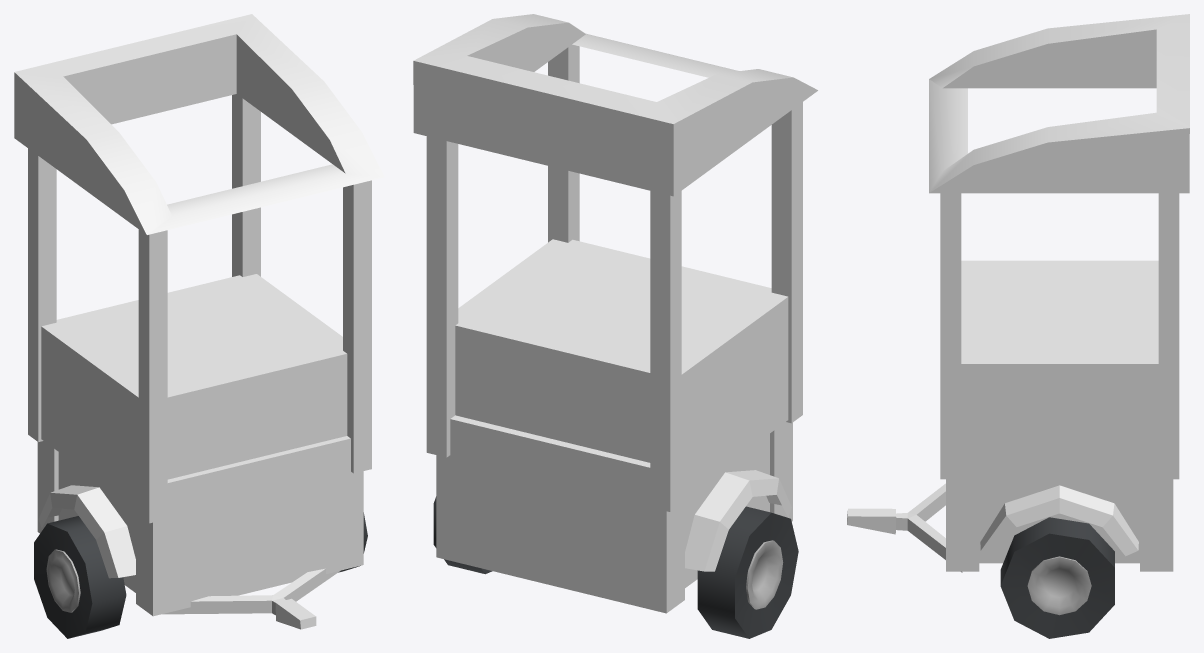
Rendered from trailer.fbx.
The picture shows the model from 3 angles, left to right: view 1: azimuth 30°, elevation 25°; view 2: azimuth 150°, elevation 25°; view 3: azimuth 270°, elevation 25°; orthographic projection. The views are drawn at different scales.
Visible parts, largest first — view 1: Veh_Attach_Trailer_Cage_SecondFloor, Veh_Attach_Trailer_Cage, Veh_Attach_Trailer_Cage_Wheel, Decal_01; view 2: Veh_Attach_Trailer_Cage_SecondFloor, Veh_Attach_Trailer_Cage, Veh_Attach_Trailer_Cage_Wheel, Decal_Arrows, Decal_01; view 3: Veh_Attach_Trailer_Cage_SecondFloor, Veh_Attach_Trailer_Cage, Veh_Attach_Trailer_Cage_Wheel, Decal_01.
Boxes of the visible parts, bbox=[...] form: Veh_Attach_Trailer_Cage_SecondFloor: bbox=[14, 14, 384, 523]; Veh_Attach_Trailer_Cage: bbox=[37, 436, 363, 629]; Veh_Attach_Trailer_Cage_Wheel: bbox=[34, 512, 367, 638]; Decal_01: bbox=[59, 360, 324, 472]; Veh_Attach_Trailer_Cage_SecondFloor: bbox=[413, 14, 817, 511]; Veh_Attach_Trailer_Cage: bbox=[436, 415, 792, 613]; Veh_Attach_Trailer_Cage_Wheel: bbox=[433, 496, 798, 638]; Decal_Arrows: bbox=[448, 459, 648, 563]; Decal_01: bbox=[483, 334, 768, 457]; Veh_Attach_Trailer_Cage_SecondFloor: bbox=[929, 14, 1189, 479]; Veh_Attach_Trailer_Cage: bbox=[847, 475, 1173, 572]; Veh_Attach_Trailer_Cage_Wheel: bbox=[1000, 517, 1114, 638]; Decal_01: bbox=[1000, 383, 1121, 451].
Bounding box in the file's own units: 452 × 800 × 495.
Materials: 1 (1 with a texture image).
